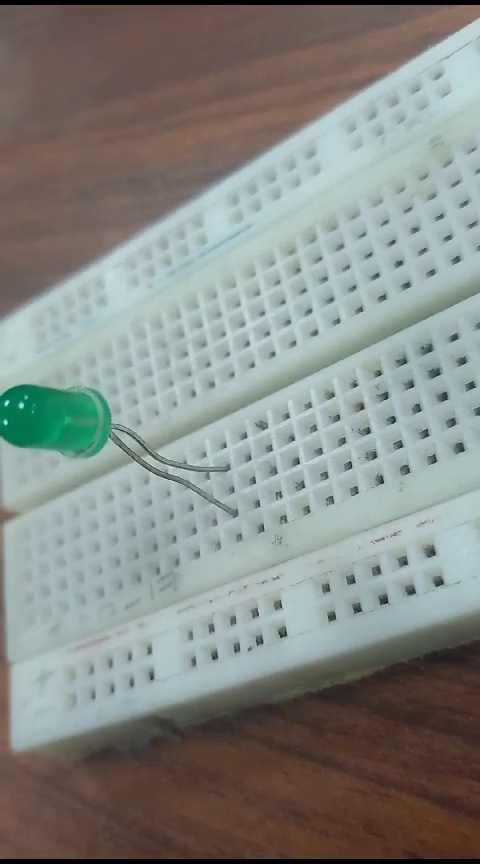LED: (3, 373, 243, 525)
